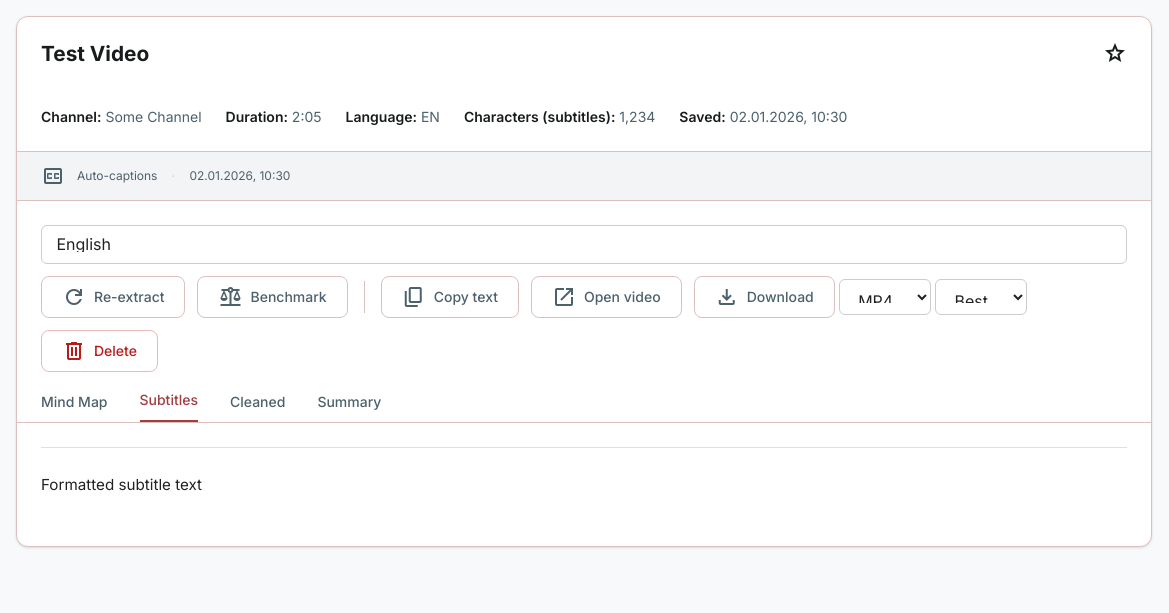
it: ResultPage › Cleaned tab: the endpoint's refusal (no model configured) is shown with its reason
The width and height of the screenshot is (1169, 613).
Check: the heading "Test Video" is shown, box x1=41 y1=41 x2=149 y2=66
Click the button "Cleaned": (258, 408) x1=230 y1=394 x2=285 y2=422
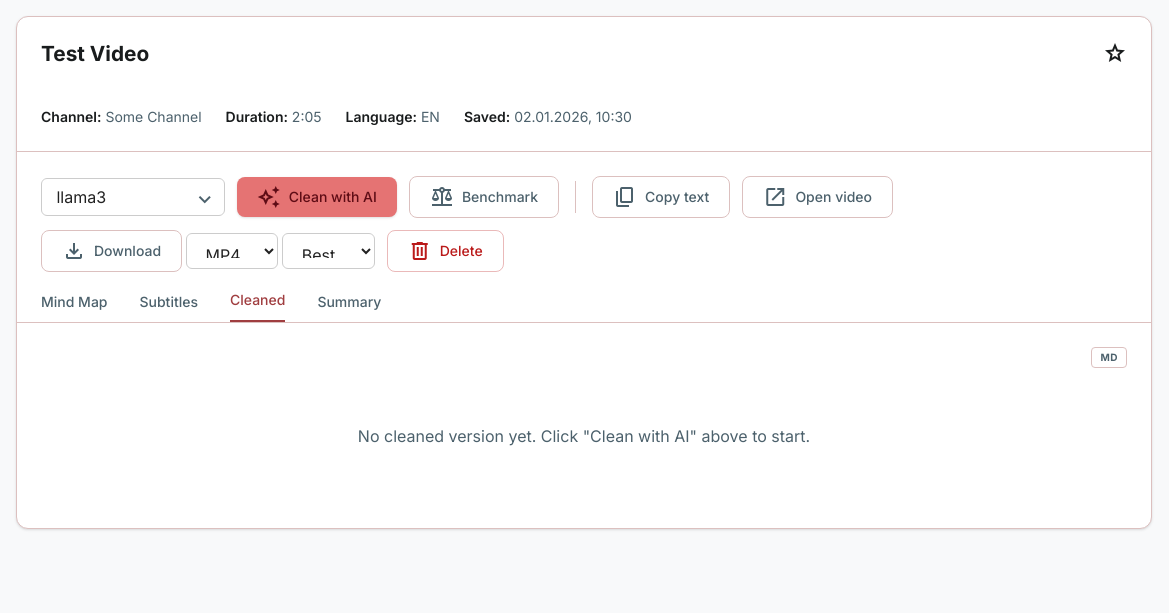
Click the button "Clean with AI": (317, 197) x1=237 y1=177 x2=397 y2=217
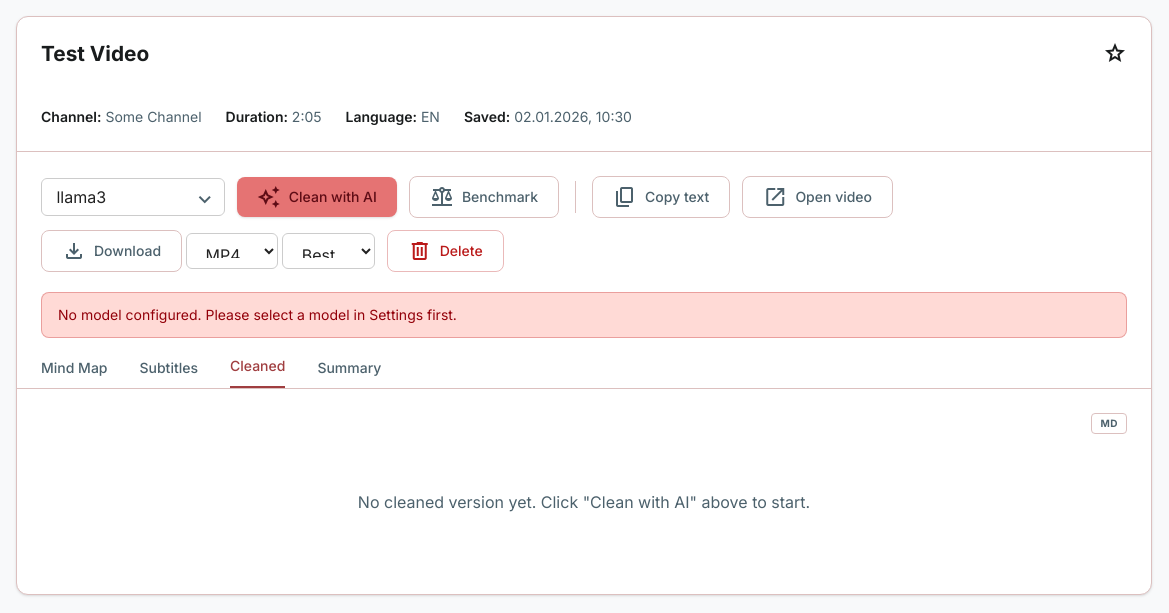
Check: the text "No model configured" is shown, box x1=58 y1=306 x2=457 y2=323
